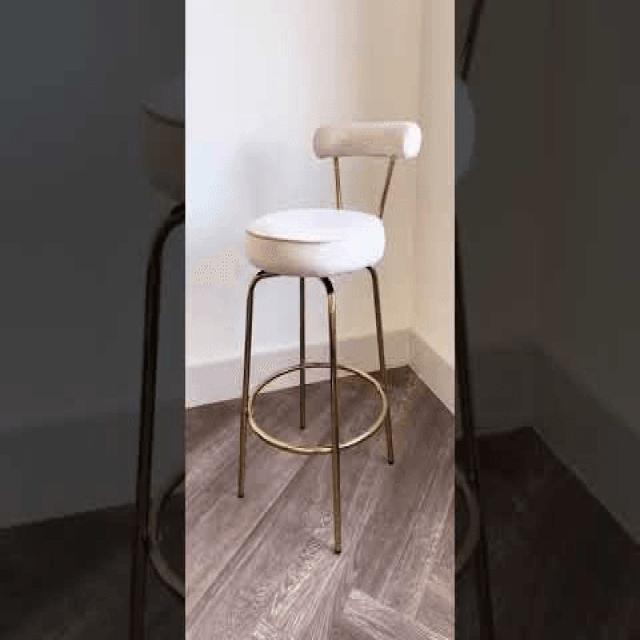chair: (237, 116, 422, 561), (242, 115, 423, 272)
